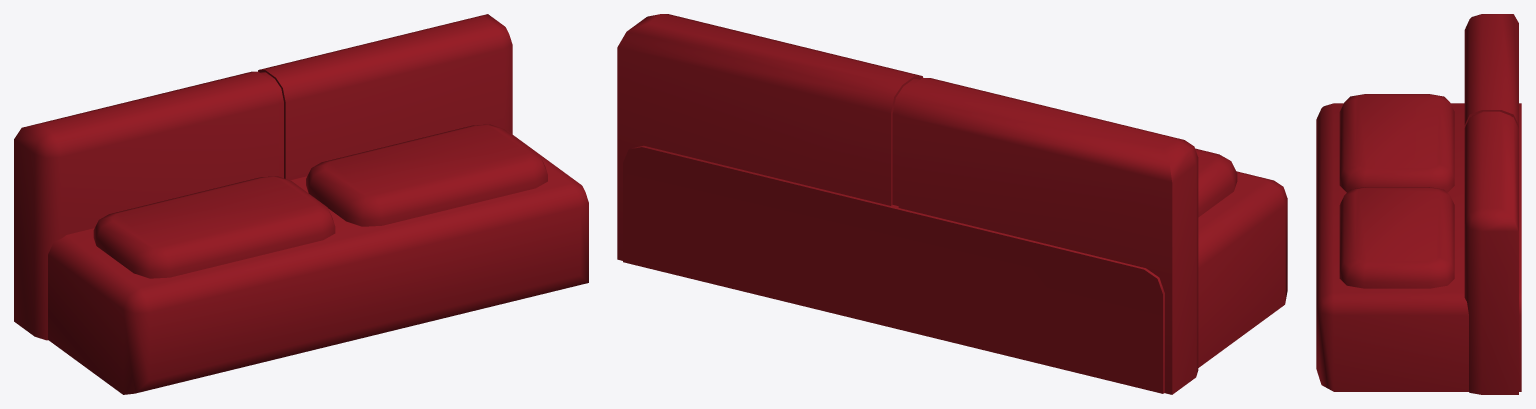
The model's file is quaternius-sushi-restaurant-environment-sofa.glb.
3 renders of one model, left to right at view 1: azimuth 30°, elevation 25°; view 2: azimuth 150°, elevation 25°; view 3: azimuth 270°, elevation 25°, orthographic. The views are drawn at different scales.
Visible parts, largest first — view 1: Environment_Sofa; view 2: Environment_Sofa; view 3: Environment_Sofa.
Part boxes in pixels (x1=…): Environment_Sofa: x1=14, y1=14, x2=588, y2=394; Environment_Sofa: x1=617, y1=14, x2=1287, y2=394; Environment_Sofa: x1=1316, y1=14, x2=1521, y2=394.
Size of the model in its own units: 3.9 by 1.57 by 1.62.
Materials: 1 (1 with a texture image).
